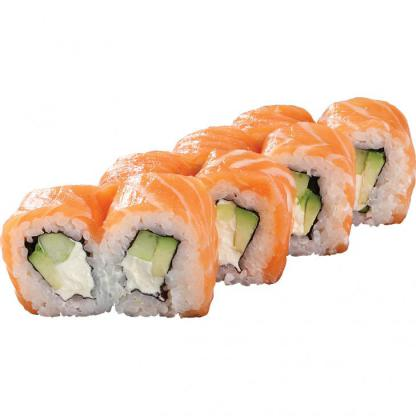philadelphia: (94, 169, 223, 330)
